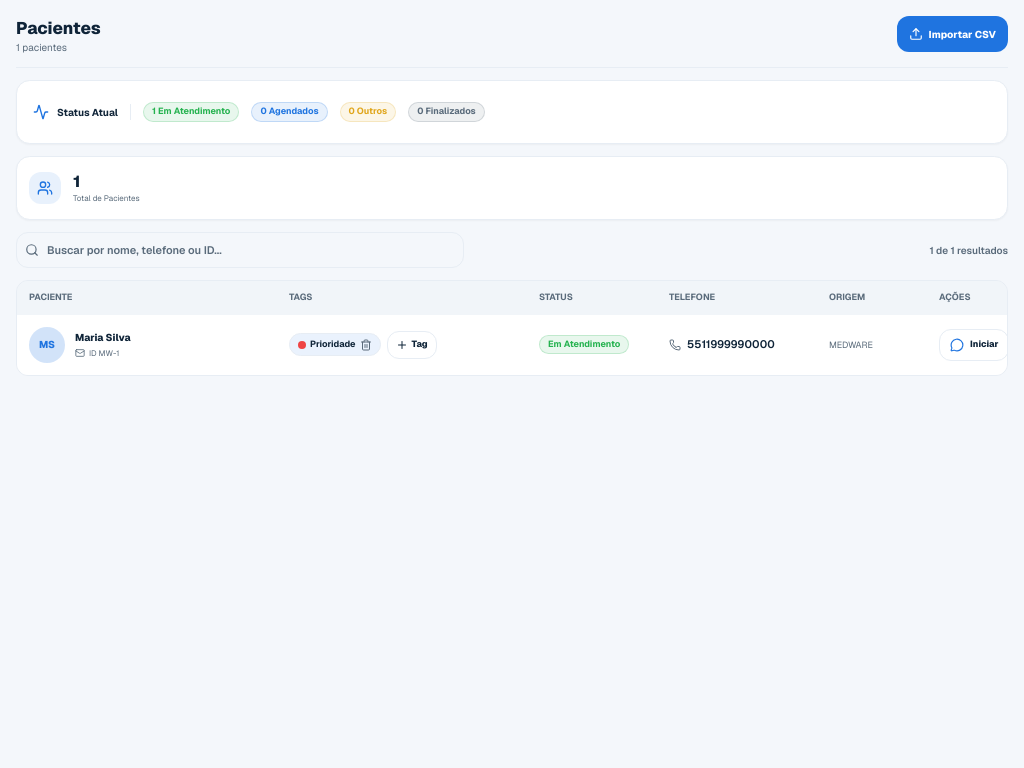
PacientesClient › should_show_and_update_patient_tags
expect the text "Prioridade" is shown: met, box [310,338,356,351]
Click the button with aria-label "Adicionar tag para Maria Silva" at [412, 344], box [386,330,437,358]
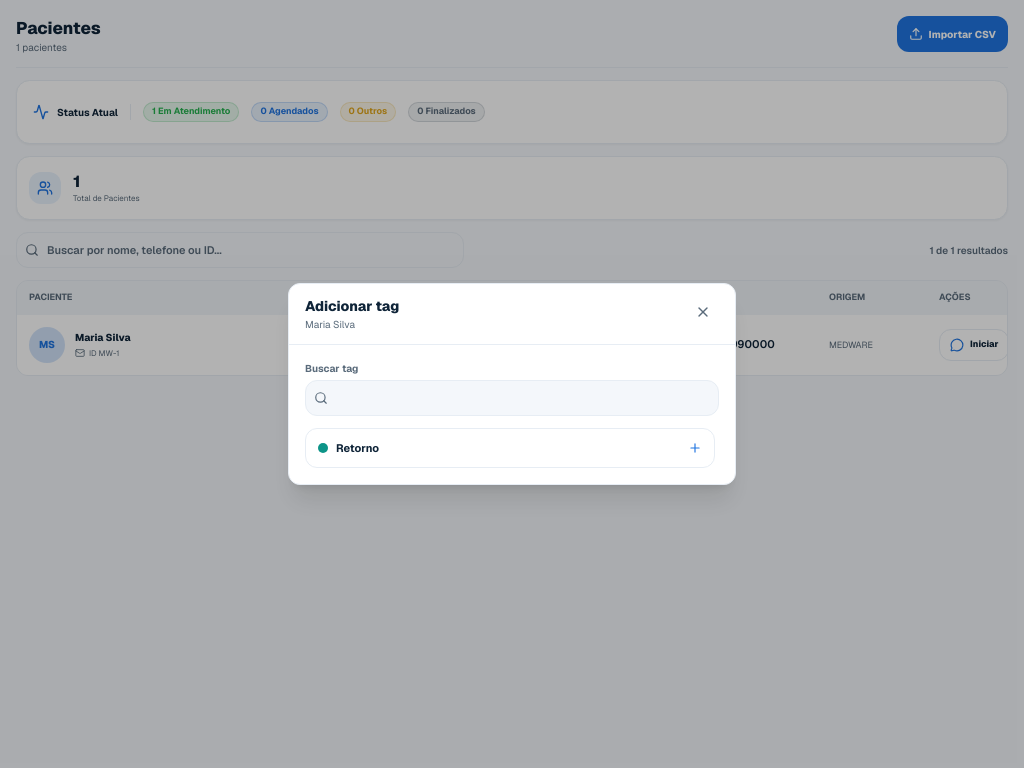
Click the button with aria-label "Adicionar Retorno" at [358, 448], box [305,428,715,468]
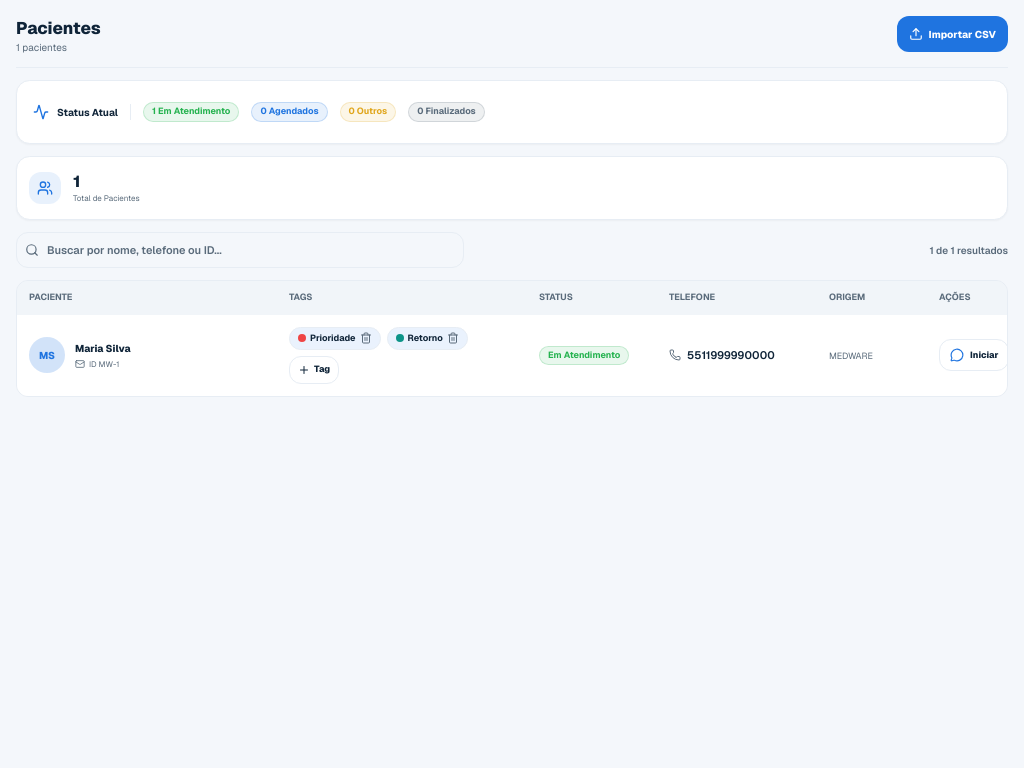
expect the text "Retorno" is shown: met, box [408,332,443,345]
Click the button named "Remover tag Prioridade de Maria Silva" at [366, 338], box [360,332,372,344]
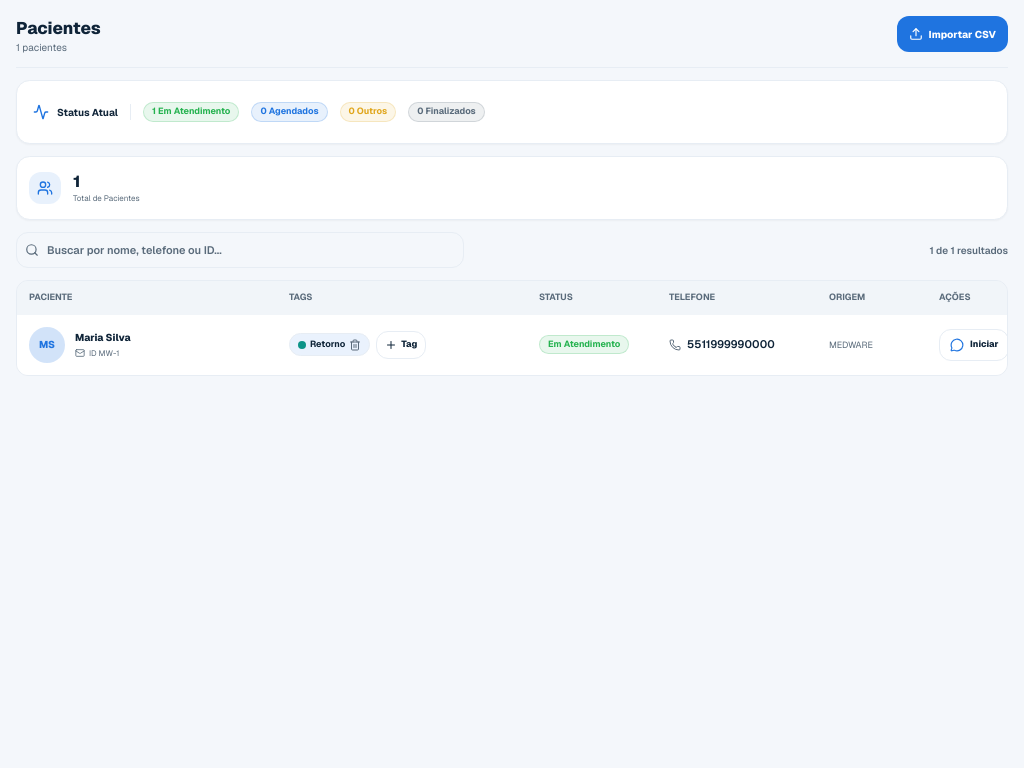
expect the text "Prioridade" is gone: met
